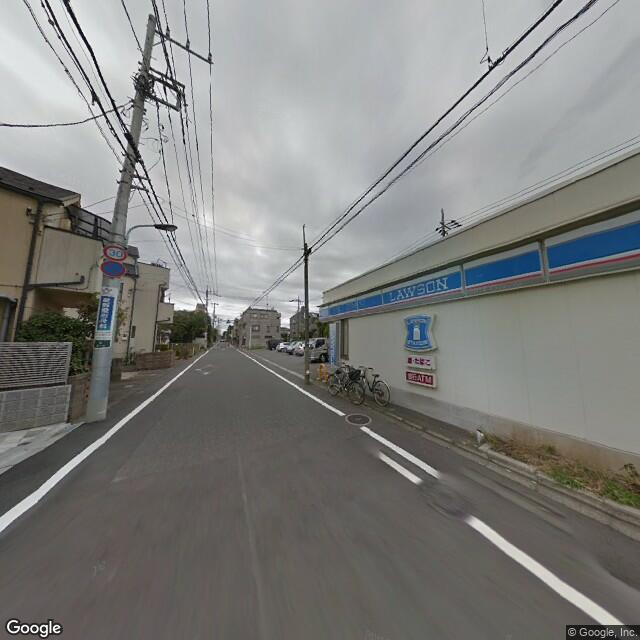lawson: (325, 200, 639, 323), (405, 312, 435, 348)
